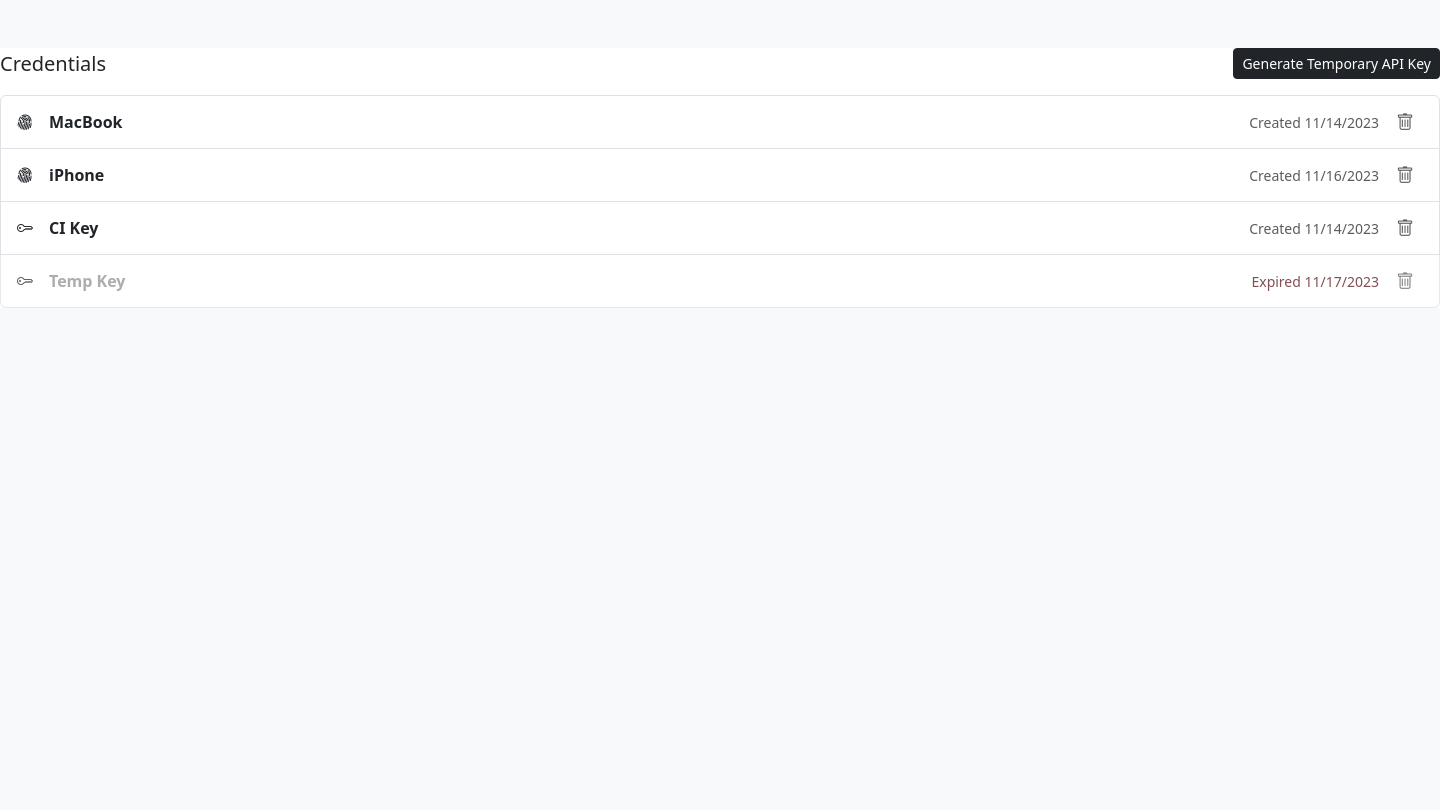
AdminCredentialsSection › revoke API key › opens confirmation modal for non-expired API key
The width and height of the screenshot is (1440, 810).
Click the button named "Revoke API key CI Key" at (1405, 228), box [1387,210,1423,246]
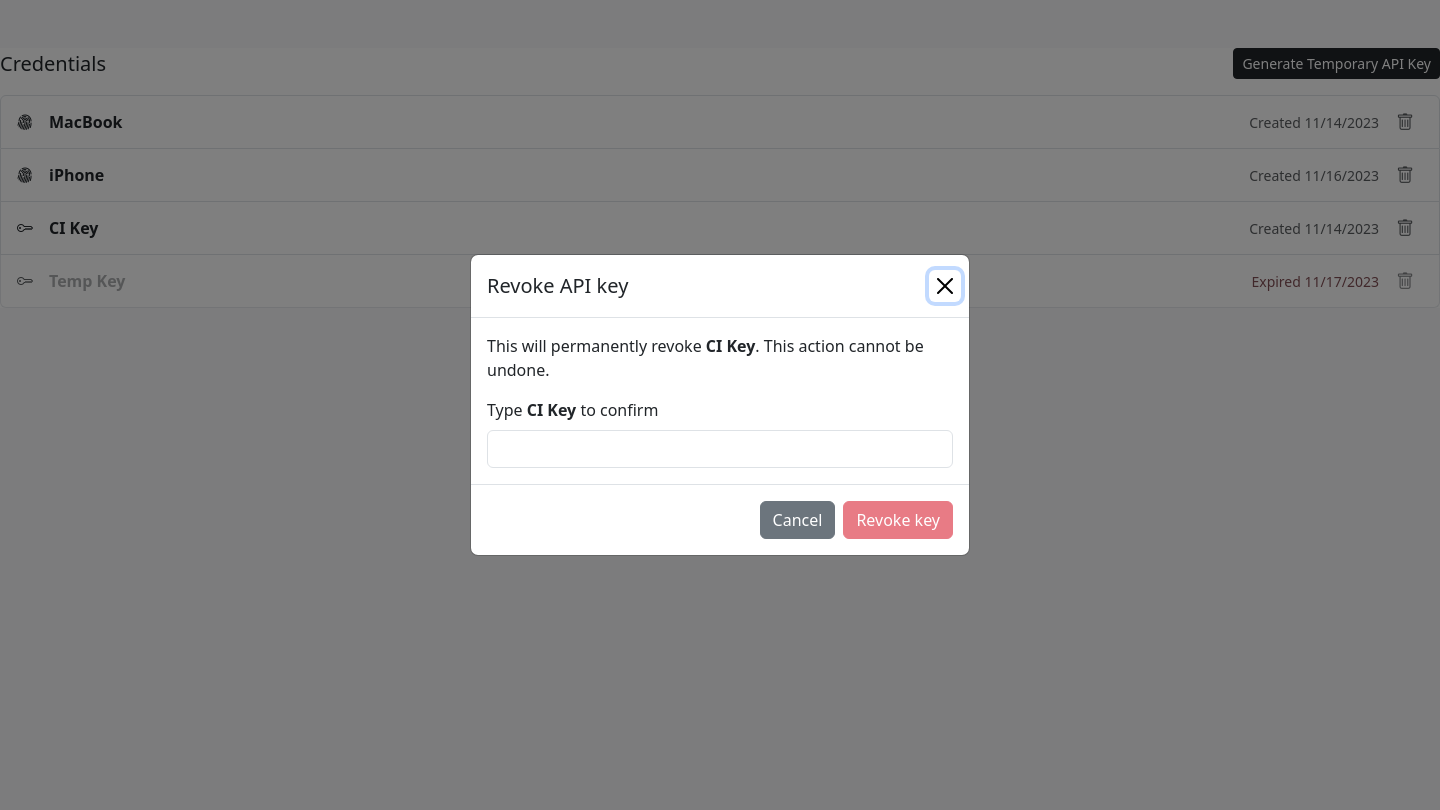
expect the heading "Revoke API key" is shown: met, box [487,271,628,301]
